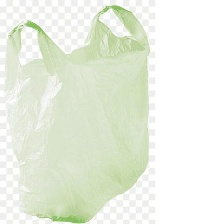plastic_bag: (0, 2, 155, 223)
